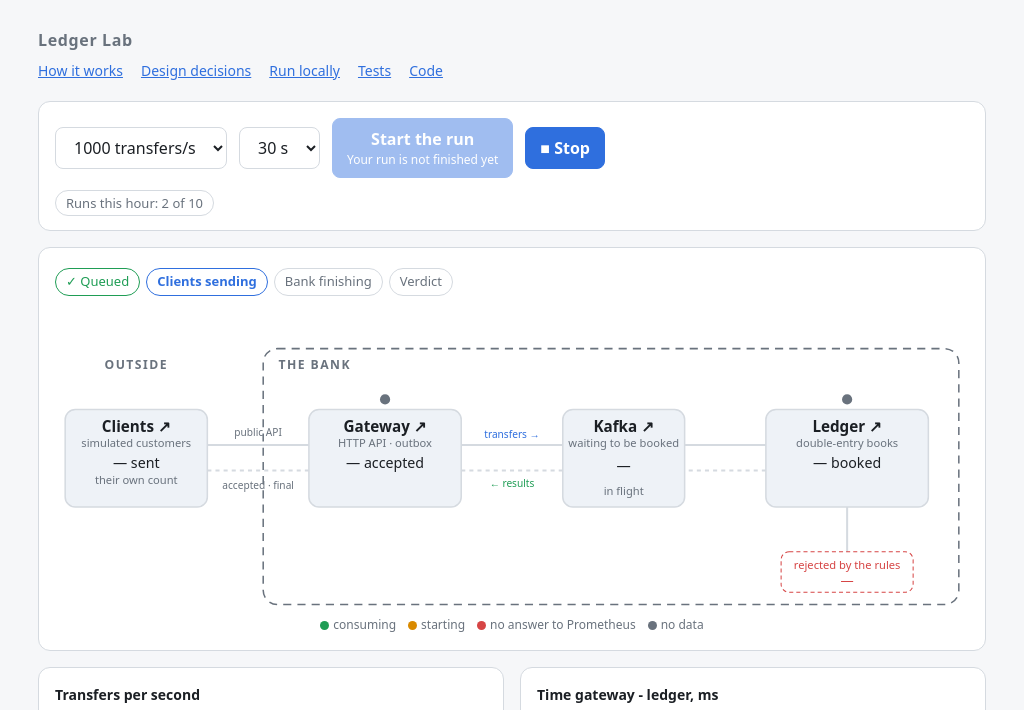
session page › says the clients are stopping once a stop is taken, until the bank finishes
Check: the text "Clients sending" is shown, box [146, 268, 268, 296]
Click the button "■ Stop".
click(565, 148)  # box [525, 127, 605, 169]
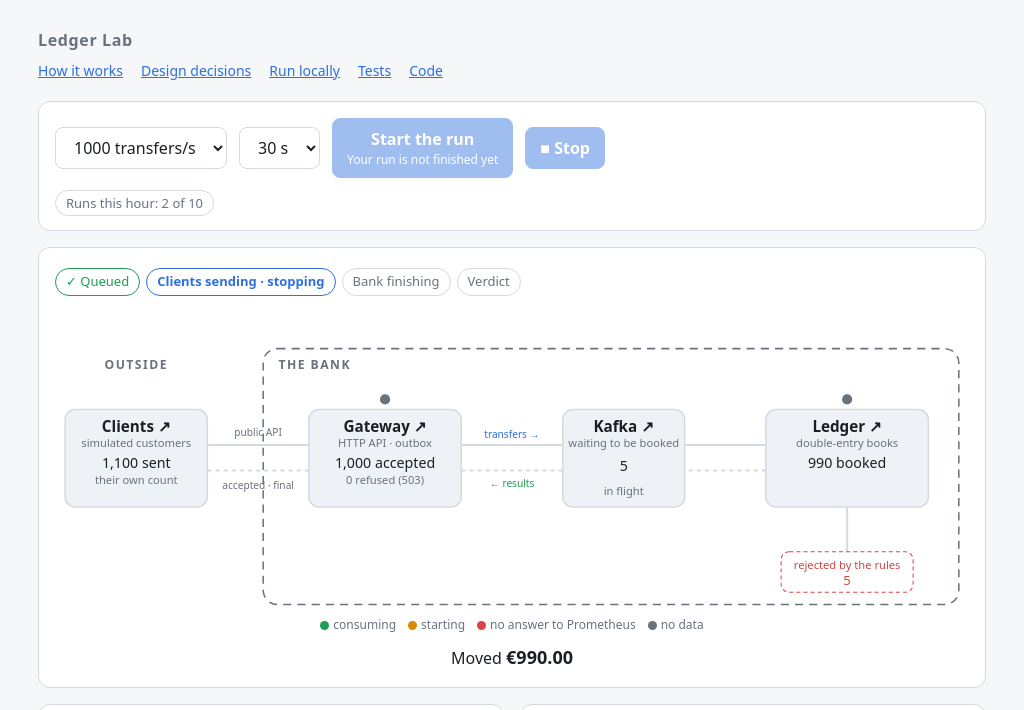
Check: the text "Clients sending · stopping" is shown, box [146, 268, 336, 296]
